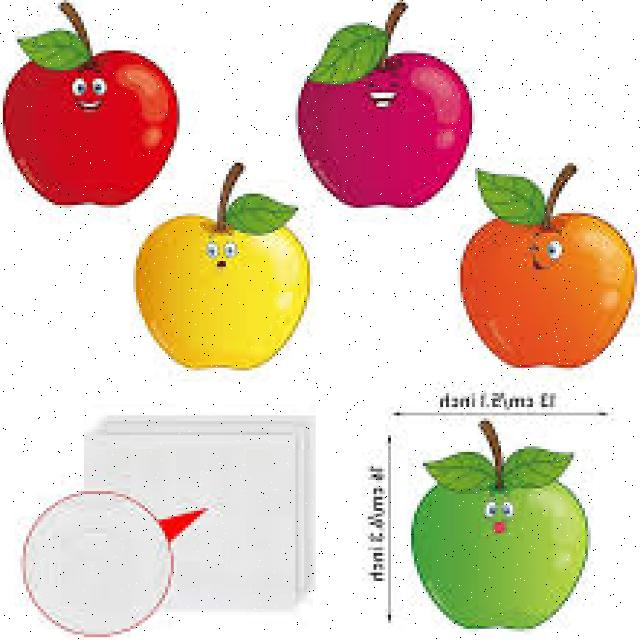Apple: (412, 441, 584, 629), (3, 51, 179, 206)
